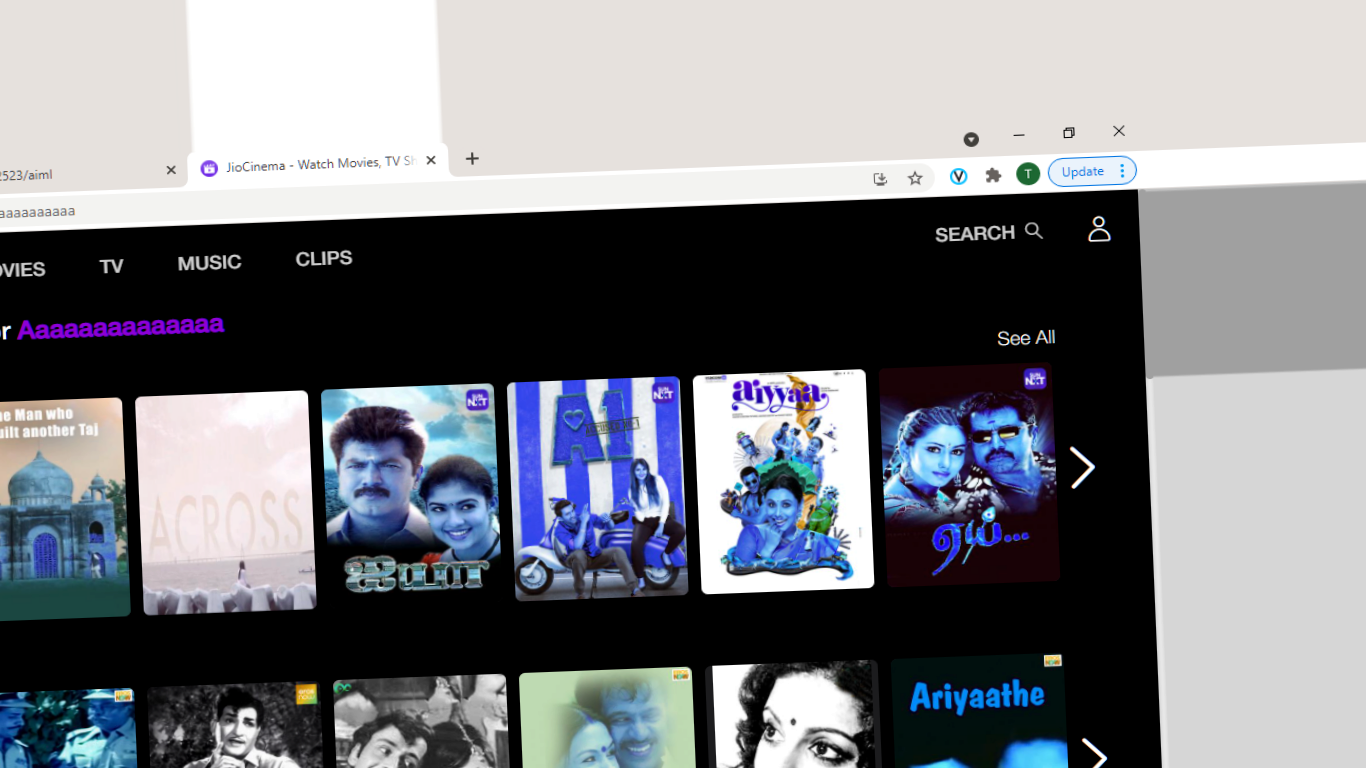noresultsfound: (1, 311, 264, 359)
profileicon: (1078, 207, 1119, 255)
searchicon: (1015, 218, 1048, 245)
searchtextbox: (929, 220, 1052, 252)
